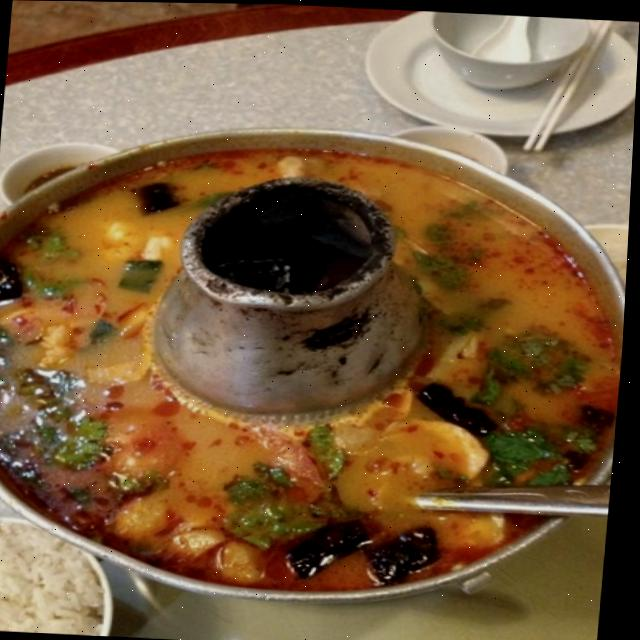汤锅炖物: (0, 116, 627, 591)
